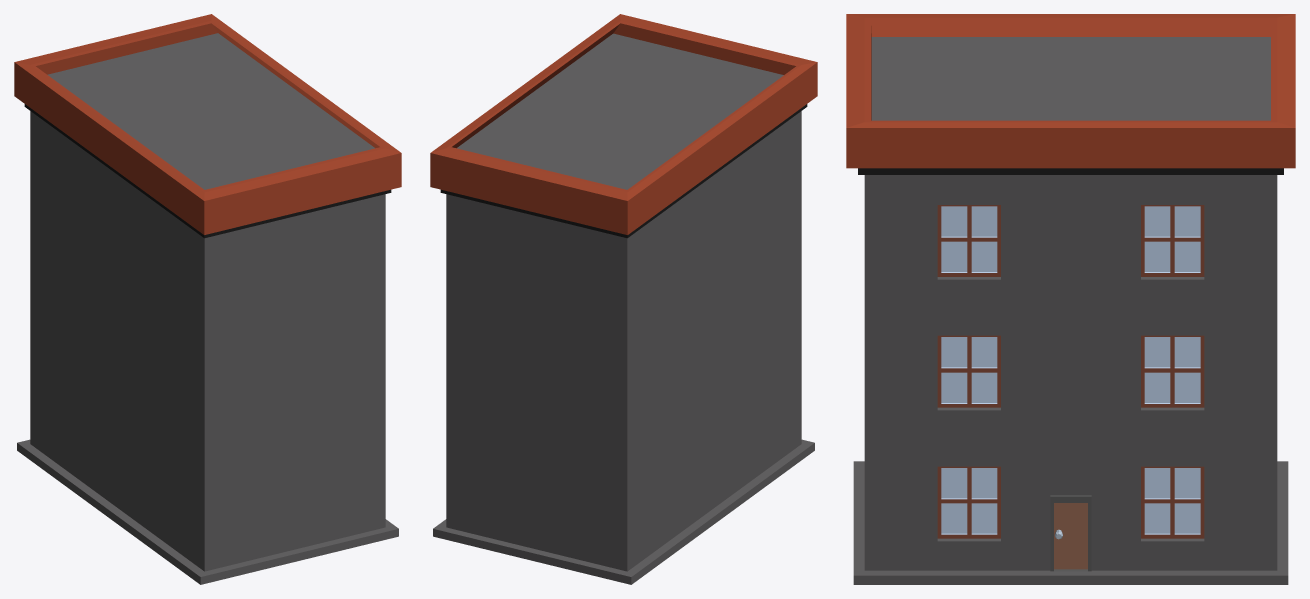
The model's file is building.fbx.
The picture shows the model from 3 angles, left to right: view 1: azimuth 30°, elevation 25°; view 2: azimuth 150°, elevation 25°; view 3: azimuth 270°, elevation 25°; orthographic projection. The views are drawn at different scales.
Visible parts, largest first — view 1: Building; view 2: Building; view 3: Building, Windows, Cube.001.
Part boxes in pixels (left/top/right/bottom): Building: left=14, top=14, right=401, bottom=584; Building: left=430, top=14, right=817, bottom=584; Building: left=846, top=14, right=1295, bottom=584; Windows: left=937, top=205, right=1204, bottom=538; Cube.001: left=1050, top=495, right=1091, bottom=571.
Bounding box in the file's own units: 6.57 × 12.25 × 10.89.
